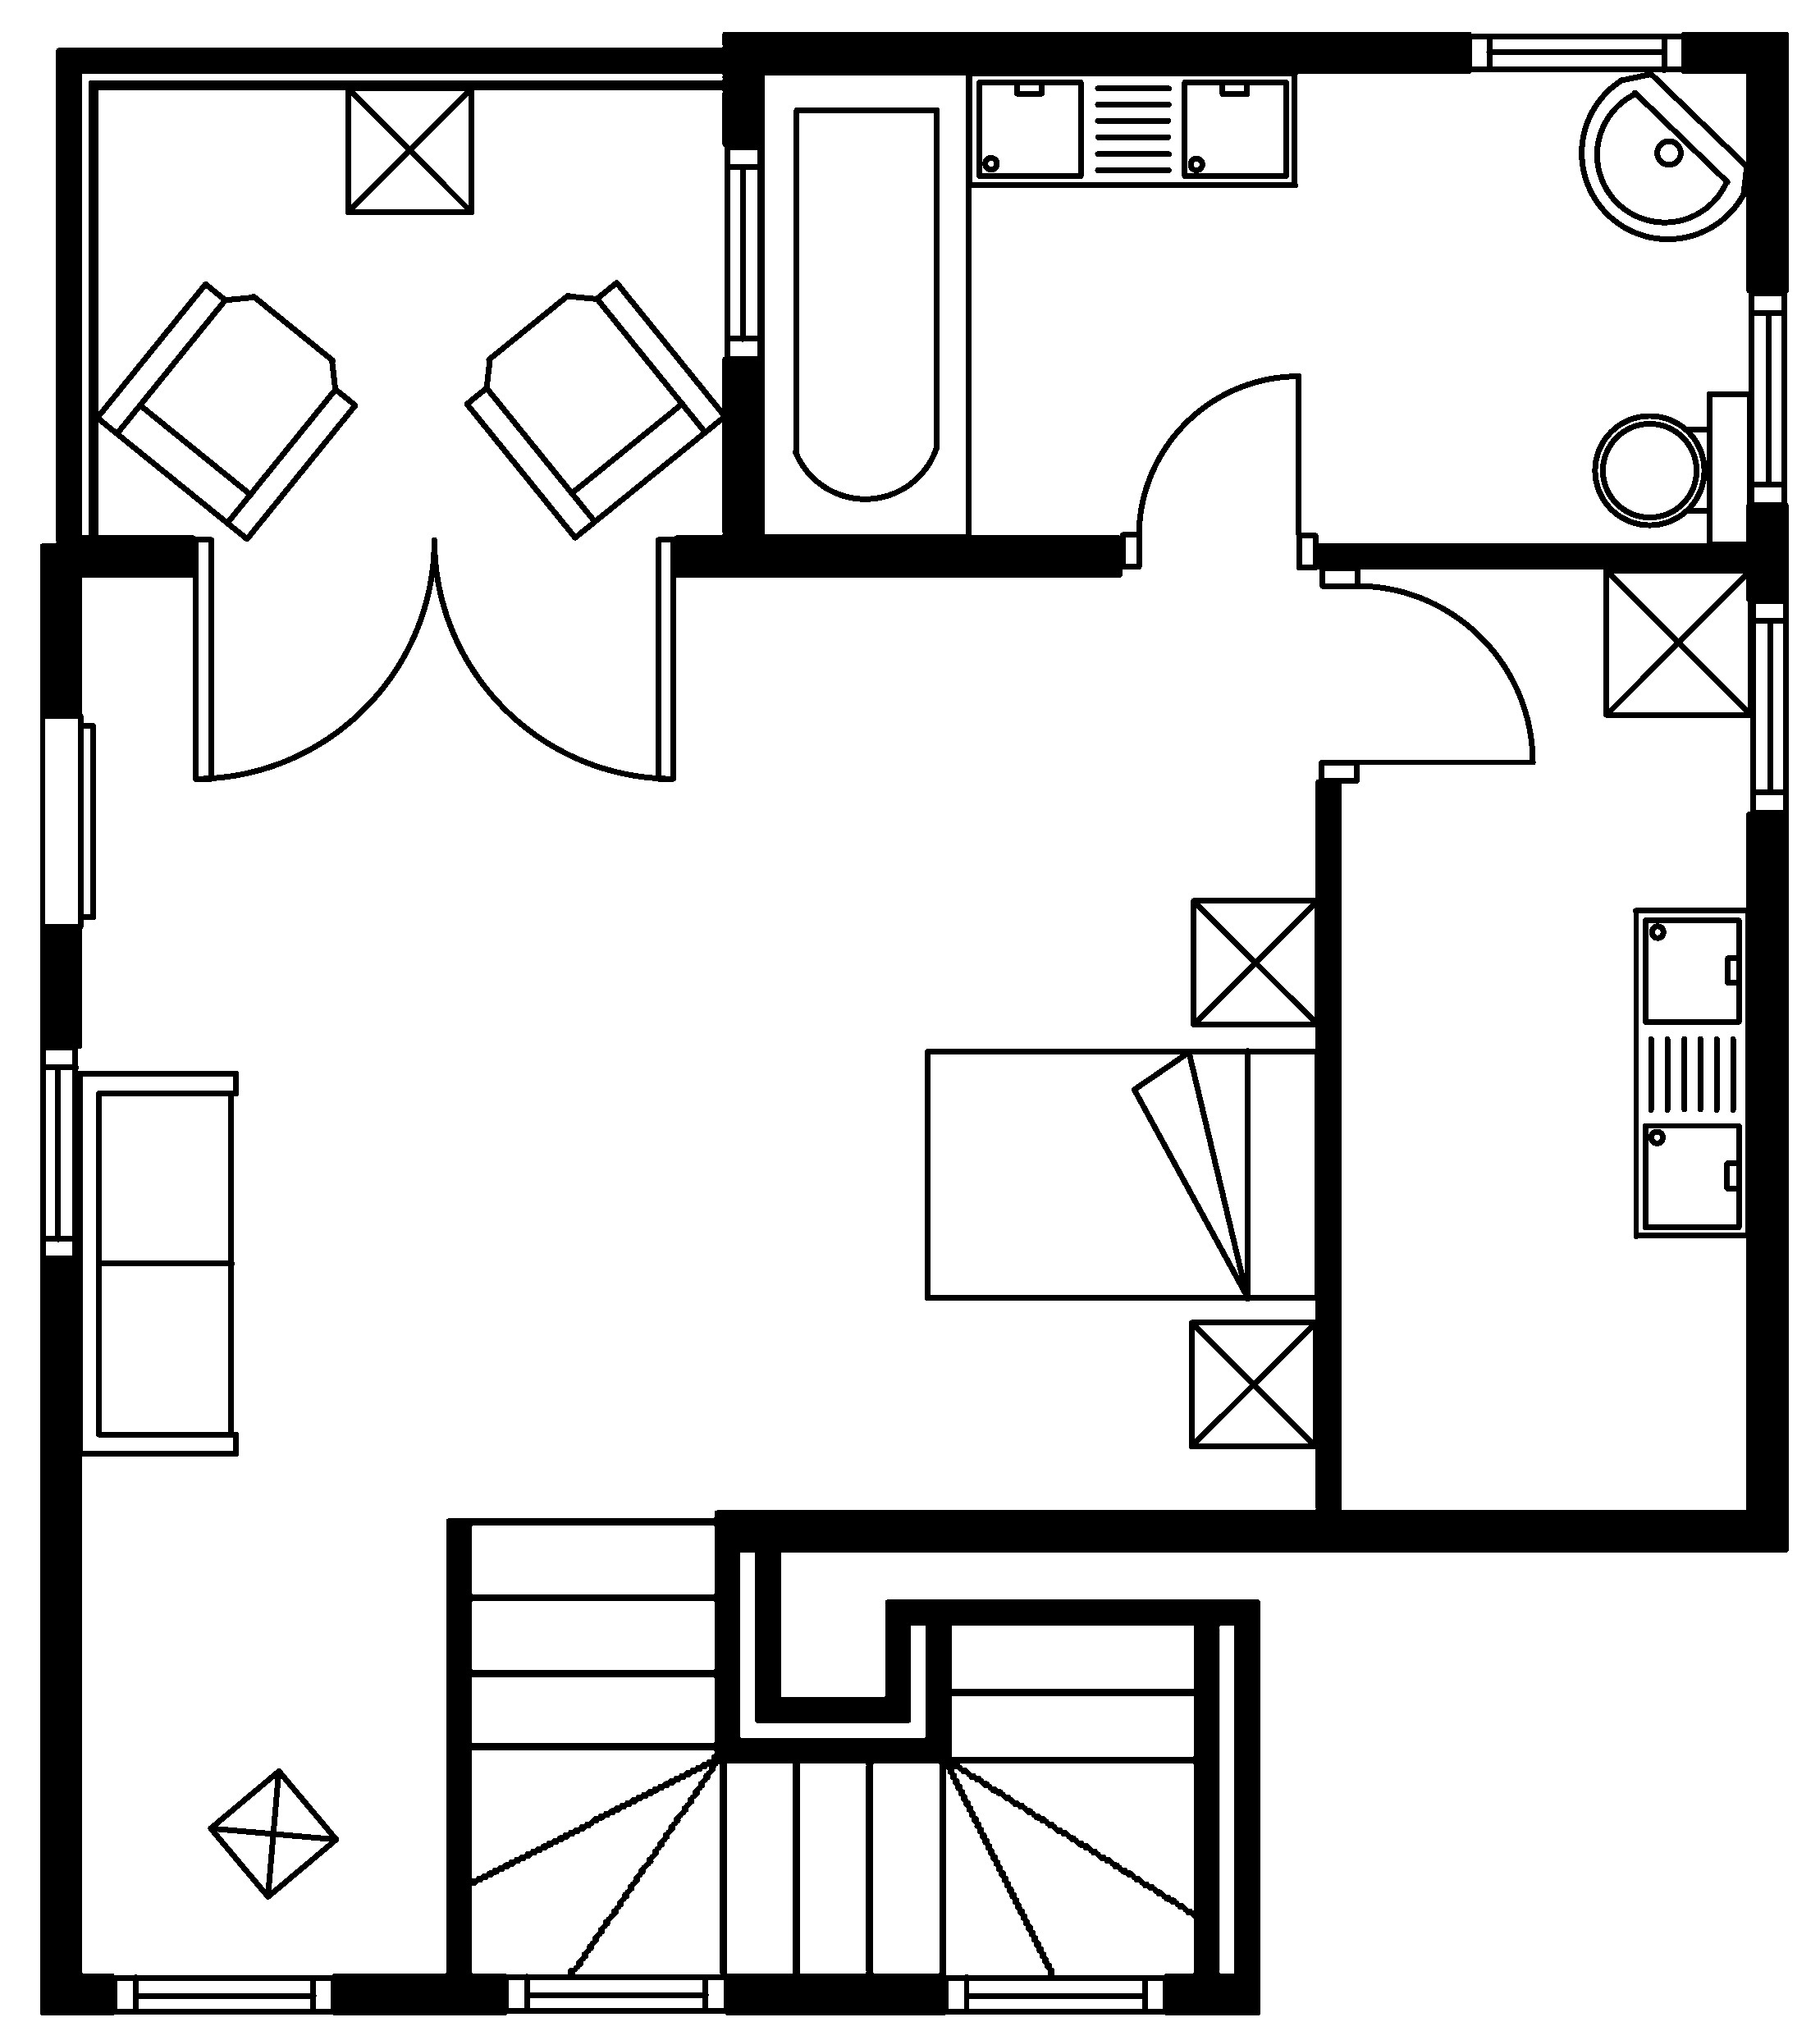armchair: (462, 278, 727, 541), (93, 279, 358, 543)
bed: (922, 1047, 1321, 1302)
coffee_table: (1602, 566, 1753, 719), (206, 1767, 339, 1899), (1186, 1318, 1319, 1449), (1189, 896, 1321, 1028), (343, 84, 474, 214)
large_sink: (1592, 388, 1753, 548)
large_sofa: (76, 1068, 239, 1456)
small_sink: (1578, 70, 1750, 241)
tub: (757, 69, 971, 539)
twin_sink: (1630, 907, 1750, 1240), (964, 69, 1298, 188)
